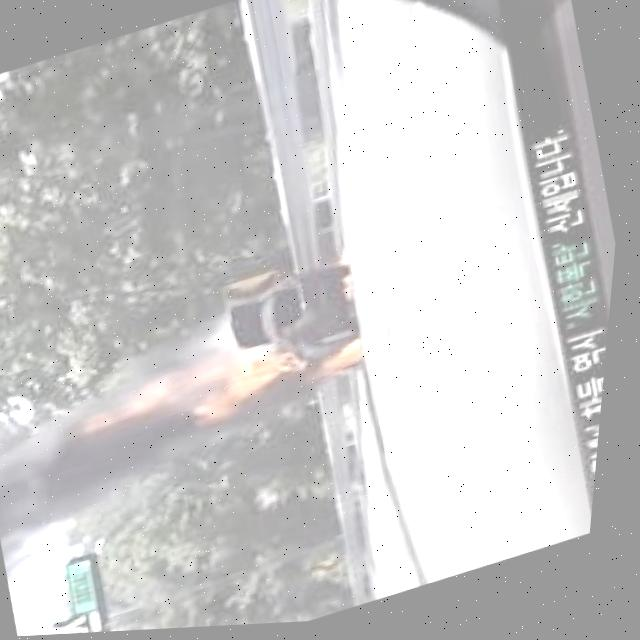Fire: (72, 329, 319, 479), (302, 335, 381, 397)
